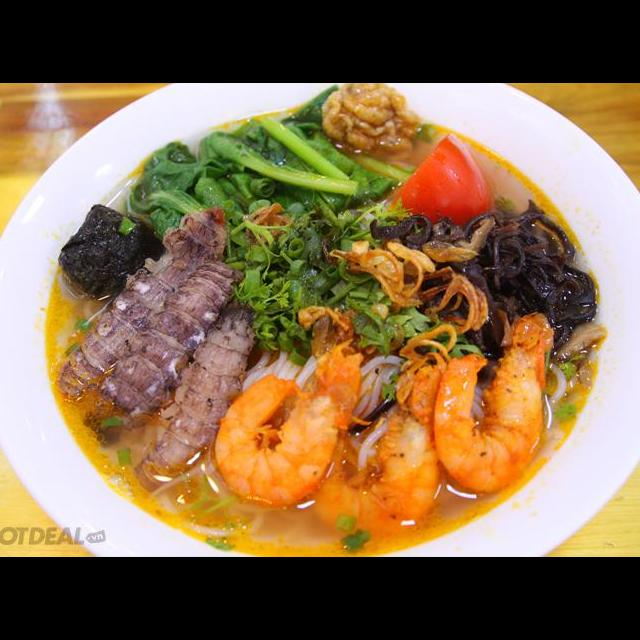bun: (146, 448, 270, 541), (343, 349, 408, 478), (235, 333, 322, 406)
bun hai san: (0, 127, 640, 552)
tom: (301, 350, 460, 542), (210, 334, 370, 512), (428, 306, 558, 497)
tom tit: (53, 201, 234, 405), (79, 254, 249, 452), (128, 296, 264, 498)
